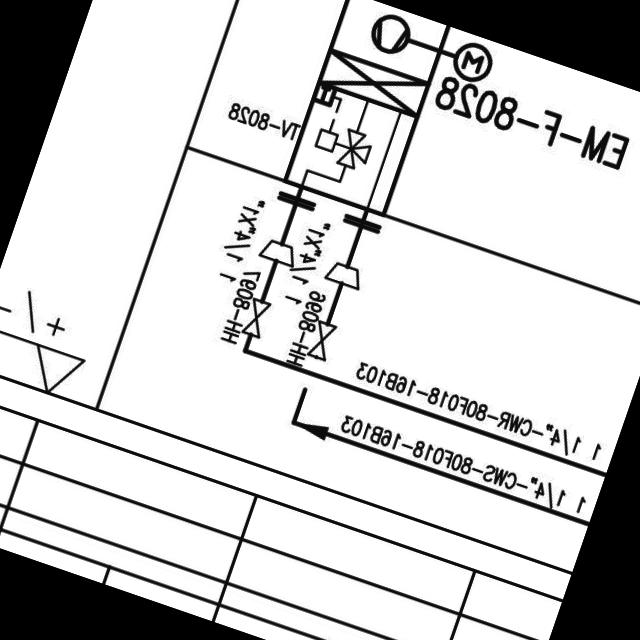3W: (331, 124, 379, 176)
GV: (302, 315, 341, 364), (238, 294, 276, 343)
M: (446, 35, 500, 87)
P: (365, 8, 415, 58)
SP: (321, 254, 369, 294), (255, 233, 302, 270)
